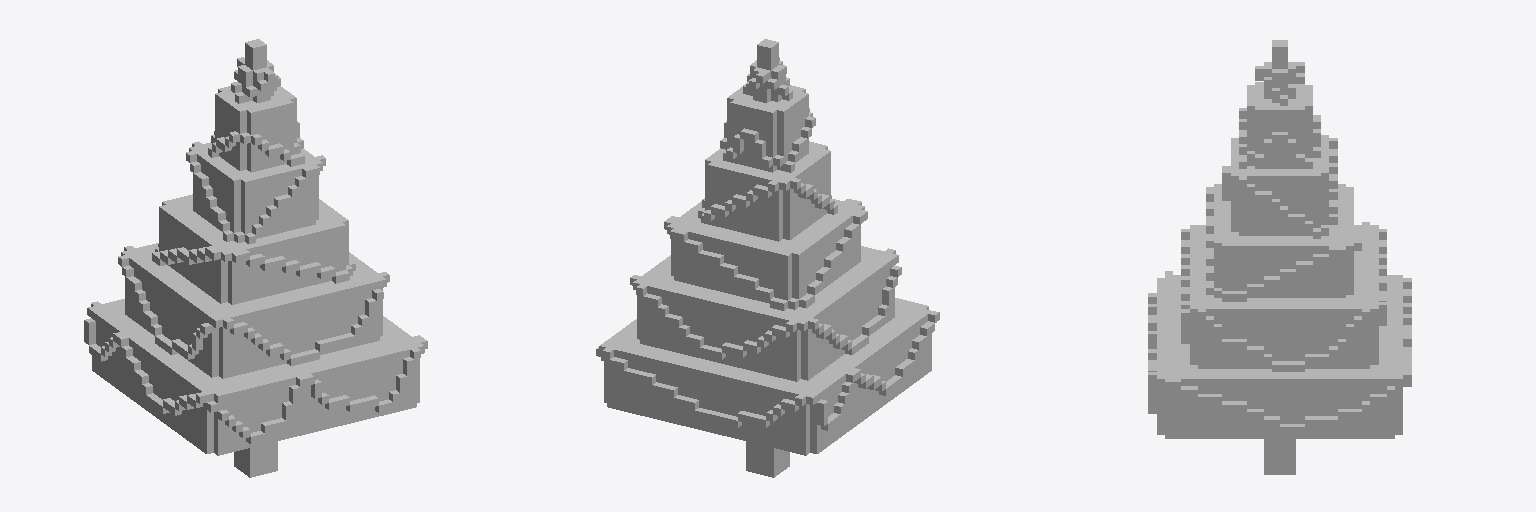
Rendered from Christmas tree_2.obj.
3 renders of one model, left to right at view 1: azimuth 30°, elevation 25°; view 2: azimuth 150°, elevation 25°; view 3: azimuth 270°, elevation 25°, orthographic.
Visible parts, largest first — view 1: object 1; view 2: object 1; view 3: object 1.
Part boxes in pixels (left/top/right/bottom): object 1: left=84, top=39, right=427, bottom=477; object 1: left=596, top=39, right=939, bottom=477; object 1: left=1148, top=40, right=1411, bottom=474.
Bounding box in the file's own units: 3.2 × 5.7 × 3.2.